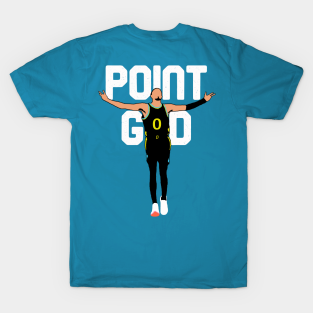design: (96, 62, 218, 218)
